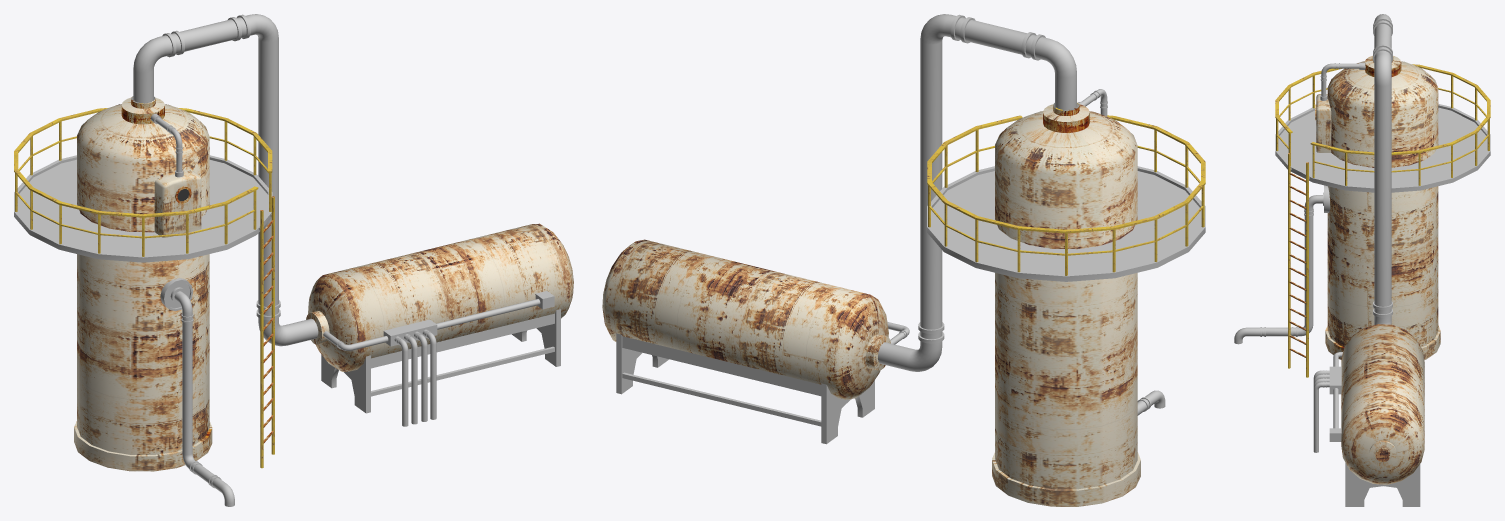
The model's file is tank_2.FBX.
The picture shows the model from 3 angles, left to right: view 1: azimuth 30°, elevation 25°; view 2: azimuth 150°, elevation 25°; view 3: azimuth 270°, elevation 25°; orthographic projection. The views are drawn at different scales.
Parts seen in each view (by area): view 1: Mesh Object; view 2: Mesh Object; view 3: Mesh Object.
Boxes of the visible parts, bbox=[...] form: Mesh Object: bbox=[14, 14, 573, 506]; Mesh Object: bbox=[602, 14, 1205, 506]; Mesh Object: bbox=[1234, 14, 1490, 506].
Bounding box in the file's own units: 22.9 × 16.72 × 11.37.
